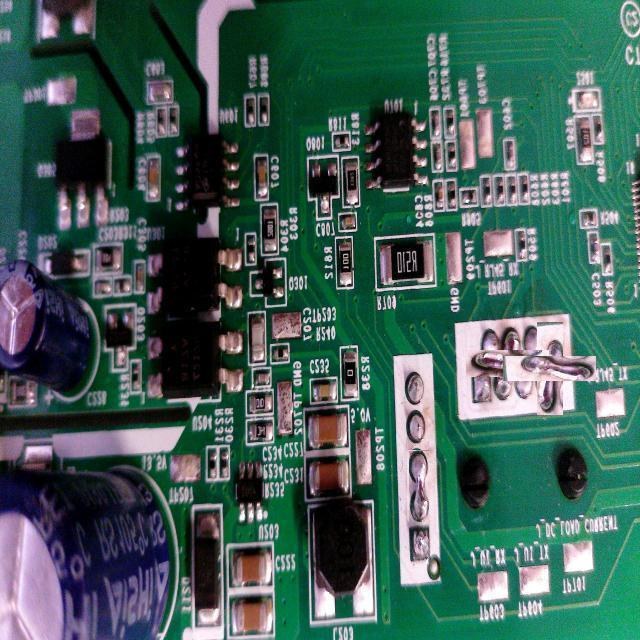Short_circuit: (520, 339, 580, 398), (480, 336, 536, 391), (408, 450, 430, 522)
